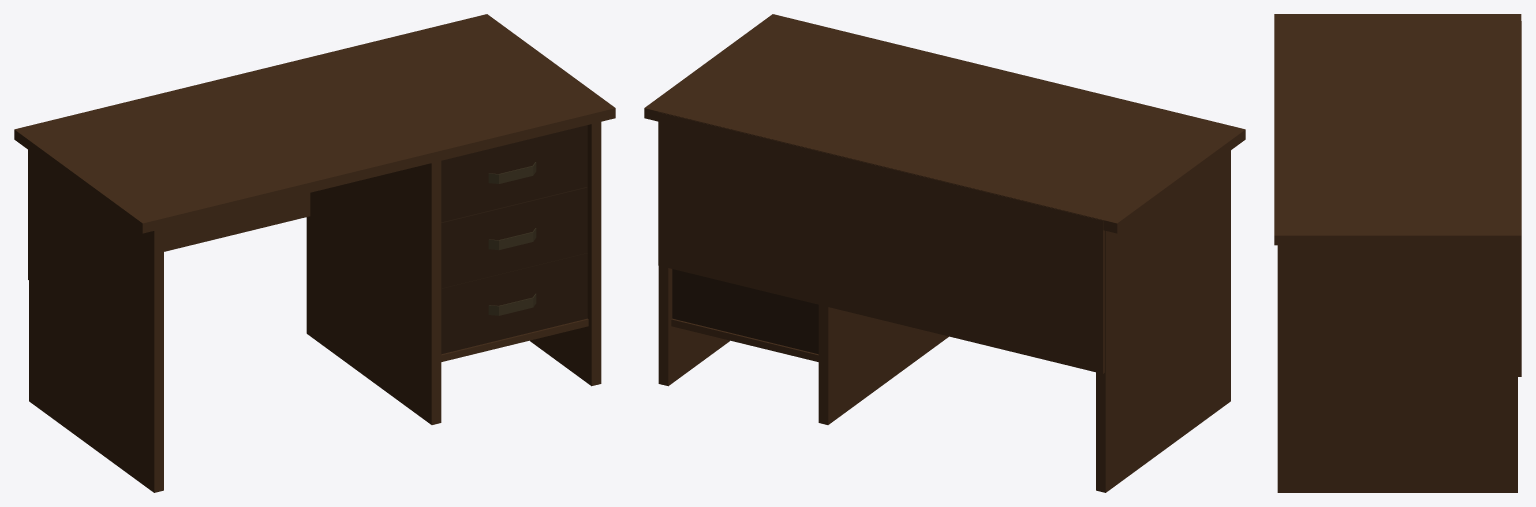
File: Desk_01.fbx
3 renders of one model, left to right at view 1: azimuth 30°, elevation 25°; view 2: azimuth 150°, elevation 25°; view 3: azimuth 270°, elevation 25°, orthographic. The views are drawn at different scales.
Visible parts, largest first — view 1: Desk_01, Cube.001, Cube.002, Cube; view 2: Desk_01, Cube.002; view 3: Desk_01.
Boxes of the visible parts, <box> form: Desk_01: <box>14,14,615,492</box>; Cube.001: <box>441,187,587,288</box>; Cube.002: <box>441,253,587,354</box>; Cube: <box>441,125,587,222</box>; Desk_01: <box>644,14,1245,492</box>; Cube.002: <box>672,269,818,354</box>; Desk_01: <box>1274,14,1521,492</box>.
Size of the model in its own units: 151 by 83.52 by 71.15.
